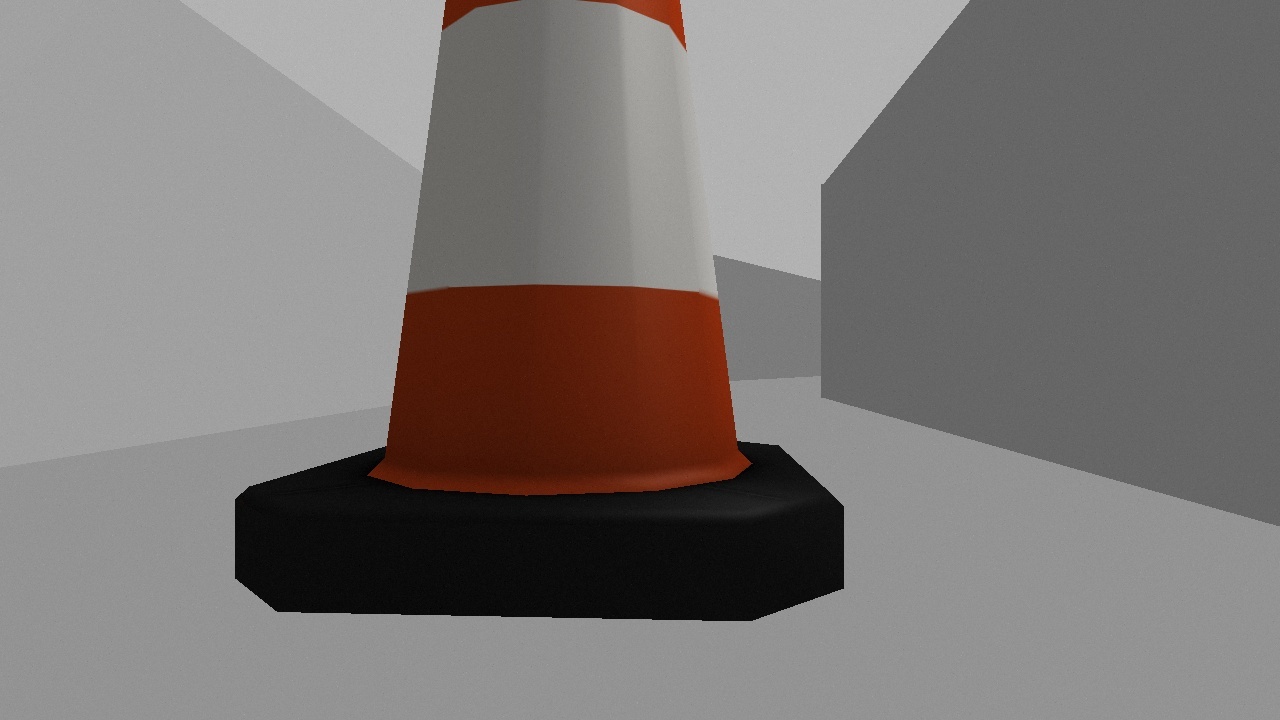barricade: (233, 1, 843, 626)
